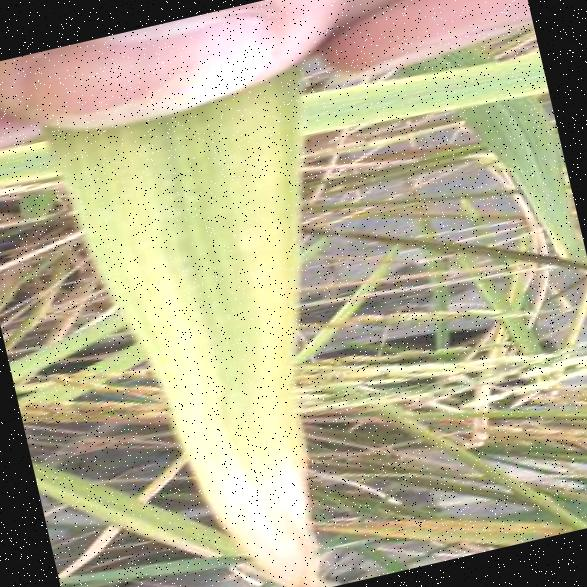Bacteria_Leaf_Blight: (95, 92, 328, 490)
